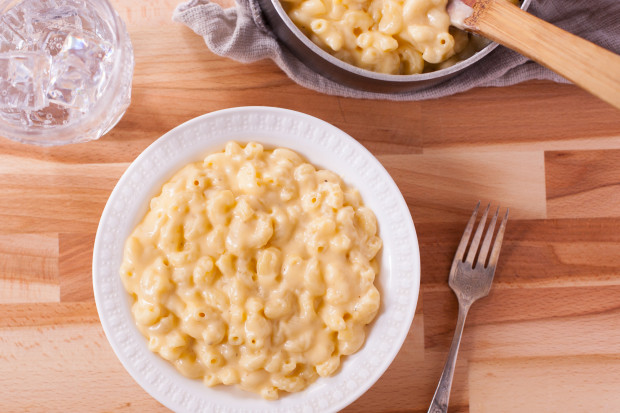macncheese: (112, 146, 388, 399)
